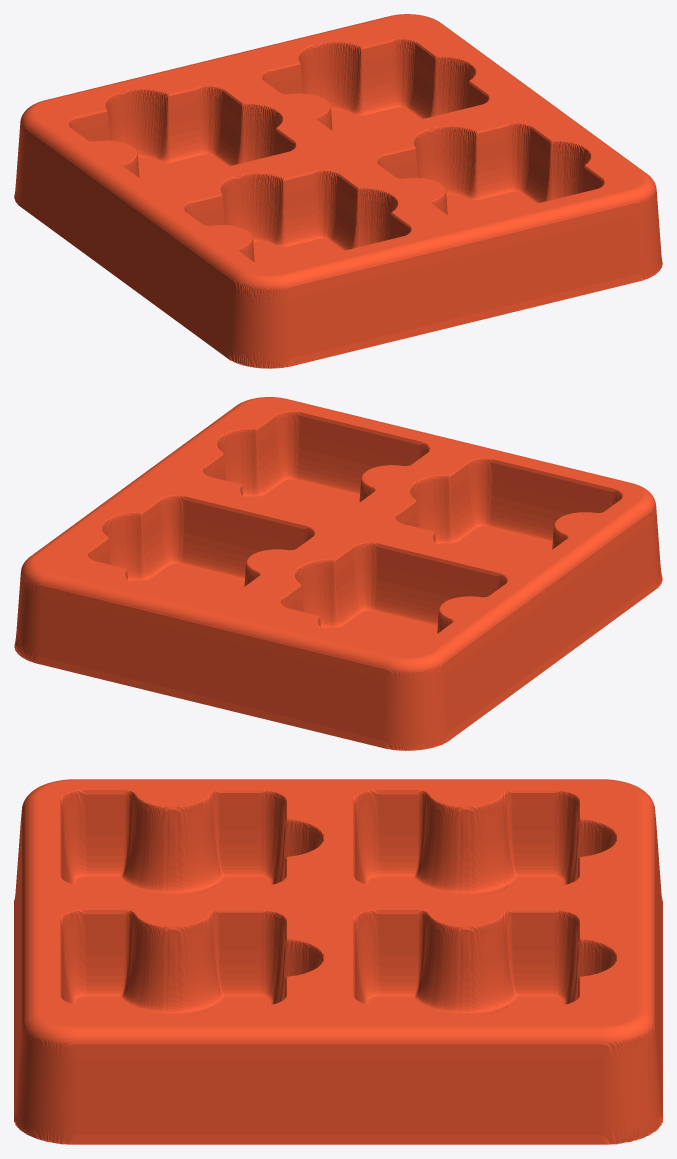
Rendered from mold.glb.
3 views of the same model, one above another, from view 1: azimuth 30°, elevation 25°; view 2: azimuth 150°, elevation 25°; view 3: azimuth 270°, elevation 25° (orthographic). The views are drawn at different scales.
Visible parts, largest first — view 1: geometry_0; view 2: geometry_0; view 3: geometry_0.
Boxes of the visible parts, left/top/right/bottom form: geometry_0: left=14, top=14, right=662, bottom=368; geometry_0: left=14, top=397, right=662, bottom=750; geometry_0: left=14, top=779, right=662, bottom=1144.
Size of the model in its own units: 0.0924 by 0.0175 by 0.0952.
